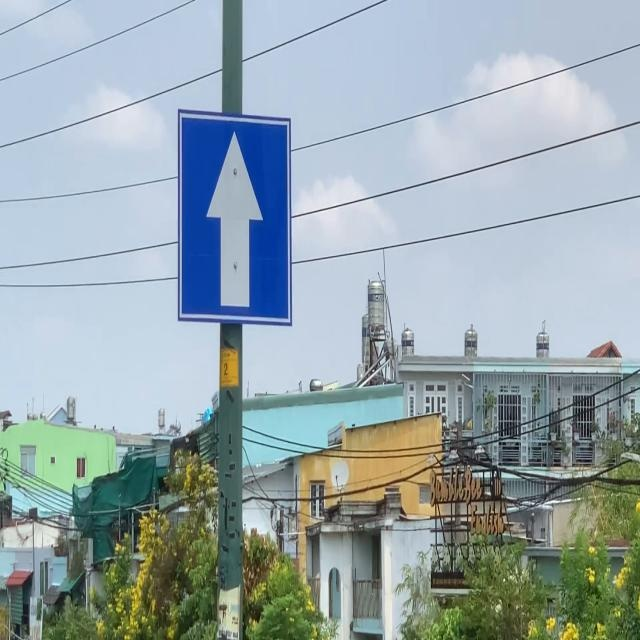bien_chi_dan: (176, 105, 294, 328)
